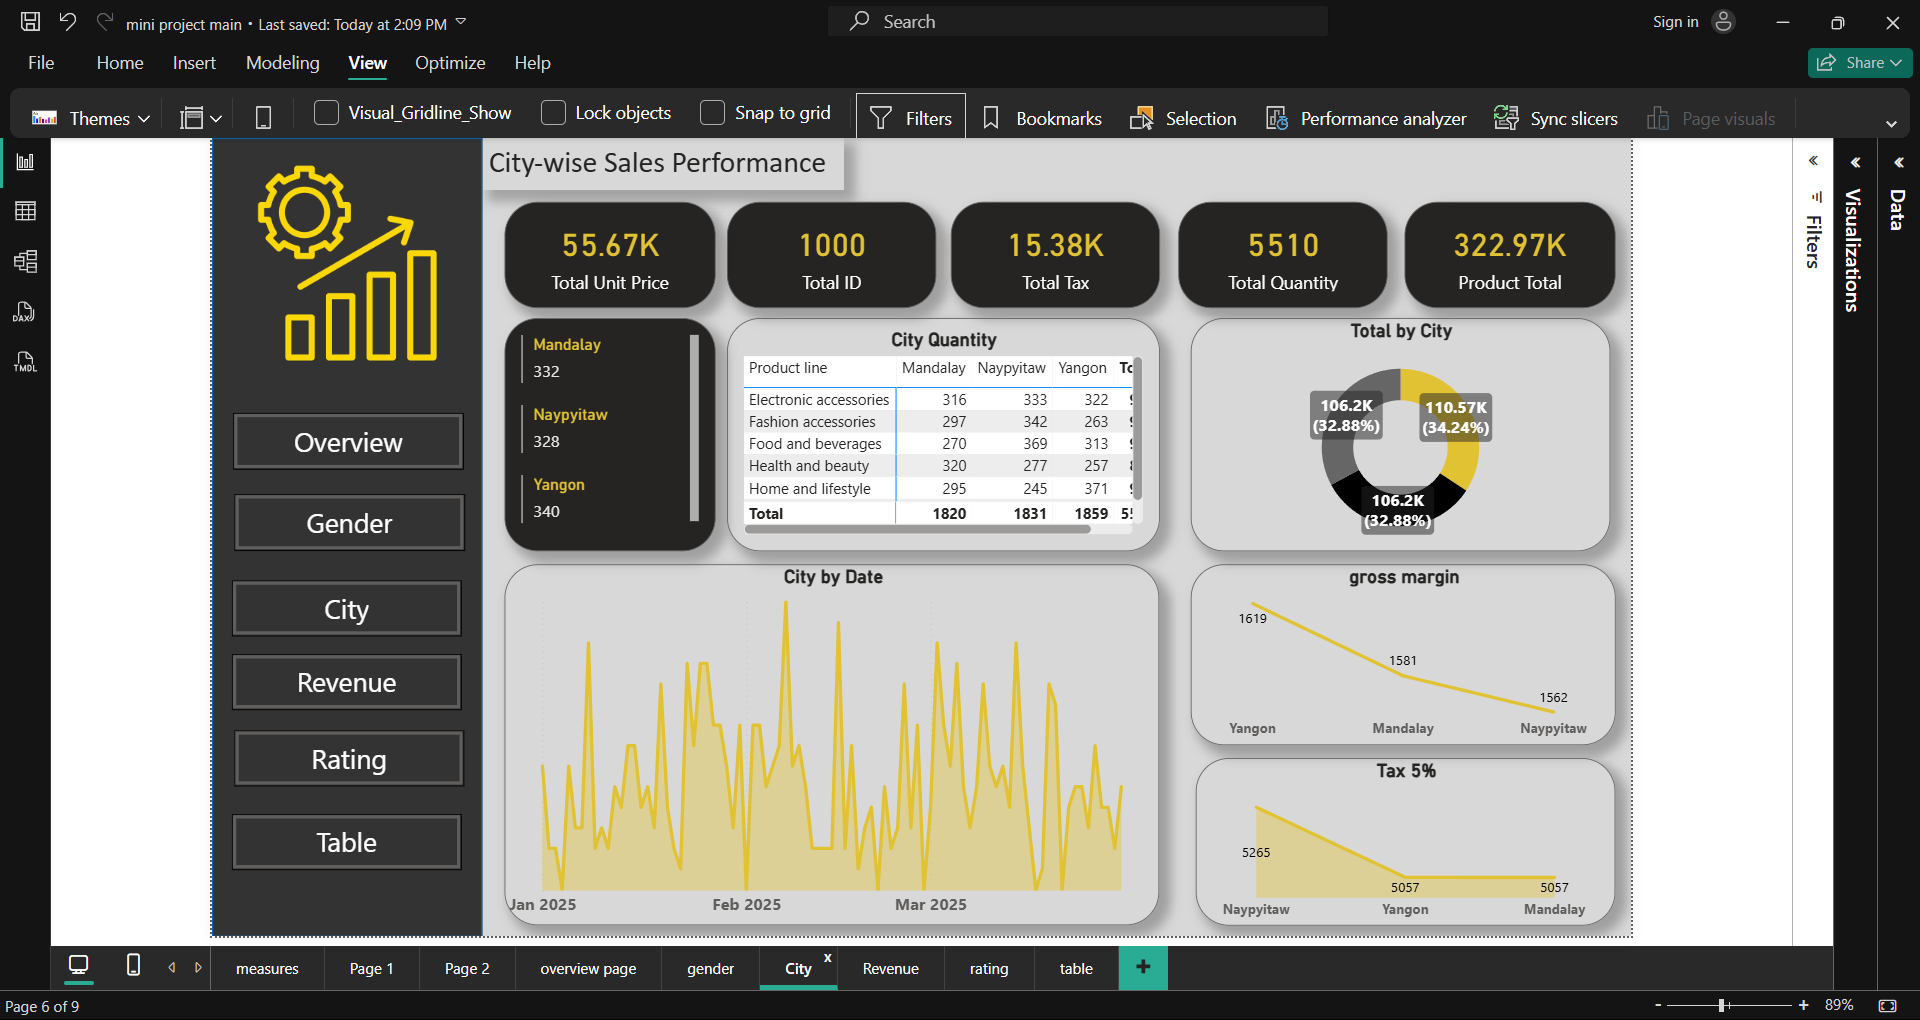

The dashboard page shown, as its layout file describes it:
{"tool":"powerbi","page":{"name":"City","canvas":[1280,720],"ordinal":5},"visuals":[{"type":"shape","box":[0,0,243.8,720.3],"z":0},{"type":"textbox","box":[244.3,0,325.7,47.1],"z":1000},{"type":"card","fields":{"Values":["Sheet1.Product Total"]},"box":[1075.7,57.1,190,95.7],"z":2000},{"type":"card","fields":{"Values":["Sheet1.Total ID"]},"box":[464.3,57.1,188.6,95.7],"z":3000},{"type":"card","fields":{"Values":["Sheet1.Total Quantity"]},"box":[871.4,57.1,188.6,95.7],"z":4000},{"type":"card","fields":{"Values":["Sheet1.Total Tax"]},"box":[665.7,57.1,188.6,95.7],"z":5000},{"type":"card","fields":{"Values":["Sheet1.Total Unit Price"]},"box":[264.3,57.1,190,95.7],"z":6000},{"type":"actionButton","box":[18.7,247.5,207.7,51],"z":7000},{"type":"actionButton","box":[19.9,320.9,207.7,51],"z":8000},{"type":"image","box":[0,24.3,244.3,175.7],"z":9000},{"type":"actionButton","box":[18.6,398.6,207.1,50],"z":10000},{"type":"multiRowCard","fields":{"Values":["Sheet1.City","CountNonNull(Sheet1.City)"]},"box":[264.3,162.9,190,210],"z":11000},{"type":"pivotTable","title":"City Quantity","fields":{"Rows":["Sheet1.Product line"],"Columns":["Sheet1.City"],"Values":["Sum(Sheet1.Quantity)"]},"box":[464.3,162.9,390,210],"z":12000},{"type":"donutChart","title":"Total by City","fields":{"Category":["Sheet1.City"],"Y":["Sum(Sheet1.Total)"]},"box":[882.9,162.9,378.6,210],"z":13000},{"type":"lineChart","title":"gross margin ","fields":{"Category":["Sheet1.City"],"Y":["Sum(Sheet1.gross margin percentage)"]},"box":[882.9,384.3,382.9,162.9],"z":14000},{"type":"stackedAreaChart","title":"Tax 5% ","fields":{"Category":["Sheet1.City"],"Y":["Sum(Sheet1.Tax 5%)"]},"box":[887.1,558.6,378.6,151.4],"z":15000},{"type":"areaChart","title":" City by Date","fields":{"Category":["Sheet1.Date"],"Y":["CountNonNull(Sheet1.City)"]},"box":[264.3,384.3,590,325.7],"z":16000},{"type":"actionButton","box":[18.6,465.7,207.1,50],"z":17000},{"type":"actionButton","box":[20,534.3,207.1,50],"z":18000},{"type":"actionButton","box":[18.6,610,207.1,50],"z":19000}]}

Visuals, with their boxes on the page's 1280x720 design canvas (x1, y1, x2, y2). These are canvas units, not pixel positions in the 1920x1020 screenshot, which may show the page scaled, cropped or inside an application window:
shape: 0,0,244,720
textbox: 244,0,570,47
card - Sheet1.Product Total: 1076,57,1266,153
card - Sheet1.Total ID: 464,57,653,153
card - Sheet1.Total Quantity: 871,57,1060,153
card - Sheet1.Total Tax: 666,57,854,153
card - Sheet1.Total Unit Price: 264,57,454,153
actionButton: 19,248,226,298
actionButton: 20,321,228,372
image: 0,24,244,200
actionButton: 19,399,226,449
multiRowCard - Sheet1.City x CountNonNull(Sheet1.City): 264,163,454,373
"City Quantity" pivotTable: 464,163,854,373
"Total by City" donutChart: 883,163,1262,373
"gross margin " lineChart: 883,384,1266,547
"Tax 5% " stackedAreaChart: 887,559,1266,710
" City by Date" areaChart: 264,384,854,710
actionButton: 19,466,226,516
actionButton: 20,534,227,584
actionButton: 19,610,226,660
